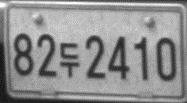0: (156, 36, 177, 81)
1: (133, 36, 149, 82)
2: (83, 34, 107, 80), (34, 33, 58, 77)
4: (108, 36, 130, 81)
8: (13, 32, 34, 76)
두: (56, 42, 81, 79)
